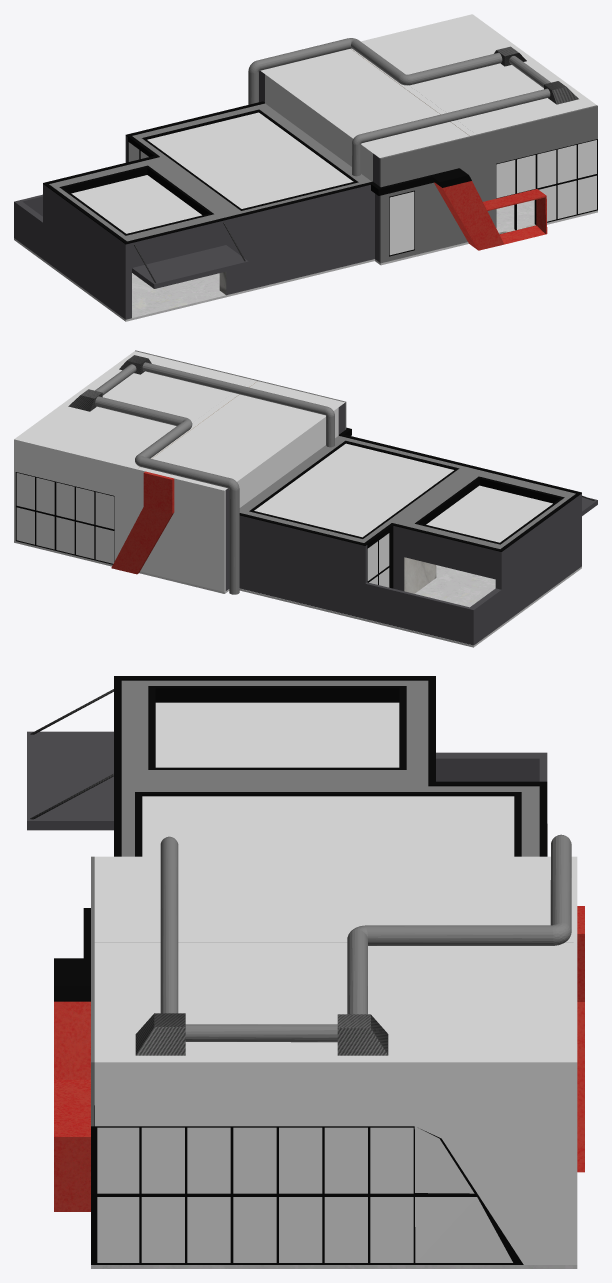
File: concessionaria 1.fbx
3 renders of one model, top to bottom at view 1: azimuth 30°, elevation 25°; view 2: azimuth 150°, elevation 25°; view 3: azimuth 270°, elevation 25°, orthographic. The views are drawn at different scales.
Visible parts, largest first — view 1: paredes, solo; view 2: paredes, solo; view 3: paredes, solo.
Boxes of the visible parts, x1=… form: paredes: x1=14, y1=14, x2=597, y2=319; solo: x1=14, y1=200, x2=597, y2=321; paredes: x1=14, y1=350, x2=597, y2=645; solo: x1=14, y1=541, x2=581, y2=647; paredes: x1=27, y1=676, x2=584, y2=1264; solo: x1=91, y1=823, x2=577, y2=1268.
Bounding box in the file's own units: 3113 × 749 × 1663.
